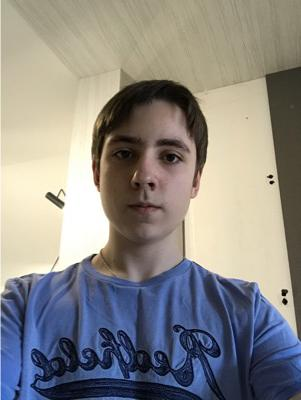without_mask: (99, 129, 194, 245)
